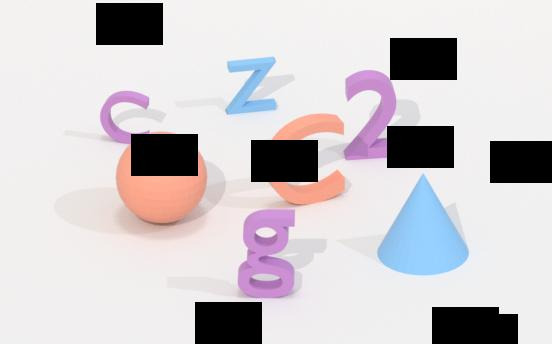2: (339, 70, 408, 167)
c: (257, 113, 352, 209), (96, 89, 157, 145)
cau: (107, 133, 213, 225)
g: (237, 207, 301, 300)
non: (372, 180, 472, 275)
z: (220, 56, 280, 116)
